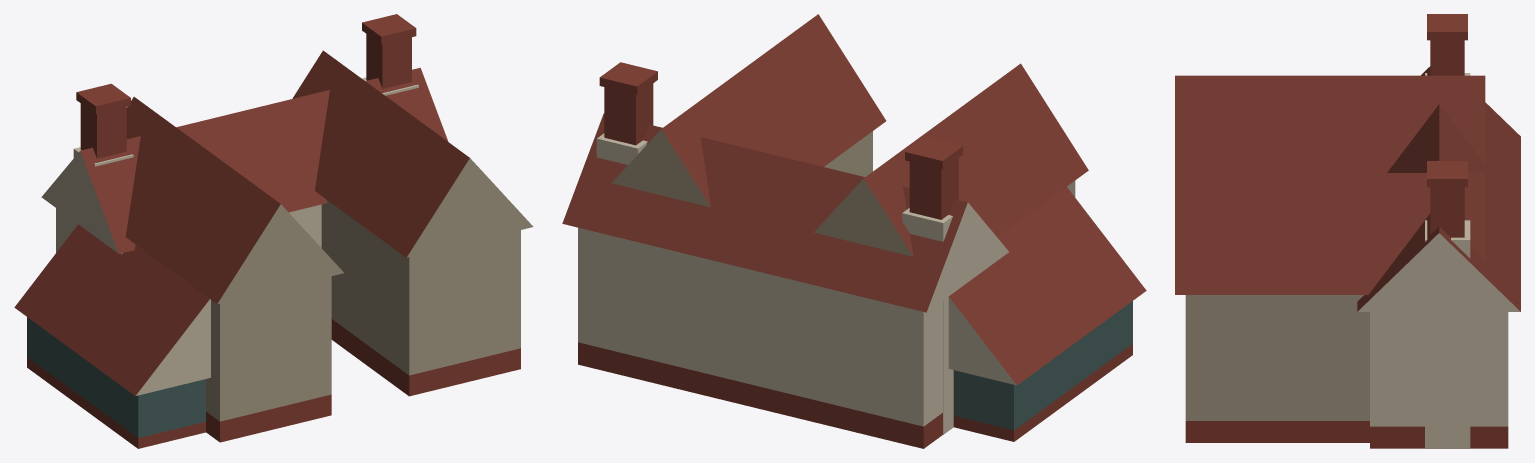
The model's file is test-hudec-topology-b-massing.glb.
3 views of the same model, side by side, from view 1: azimuth 30°, elevation 25°; view 2: azimuth 150°, elevation 25°; view 3: azimuth 270°, elevation 25° (orthographic). The views are drawn at different scales.
Parts seen in each view (by area): view 1: test-hudec-topology-b-massing; view 2: test-hudec-topology-b-massing; view 3: test-hudec-topology-b-massing.
Part boxes in pixels (x1=…): test-hudec-topology-b-massing: x1=14, y1=14, x2=533, y2=448; test-hudec-topology-b-massing: x1=562, y1=14, x2=1146, y2=448; test-hudec-topology-b-massing: x1=1175, y1=14, x2=1520, y2=448.
Bounding box in the file's own units: 11.52 × 7.08 × 8.25.
